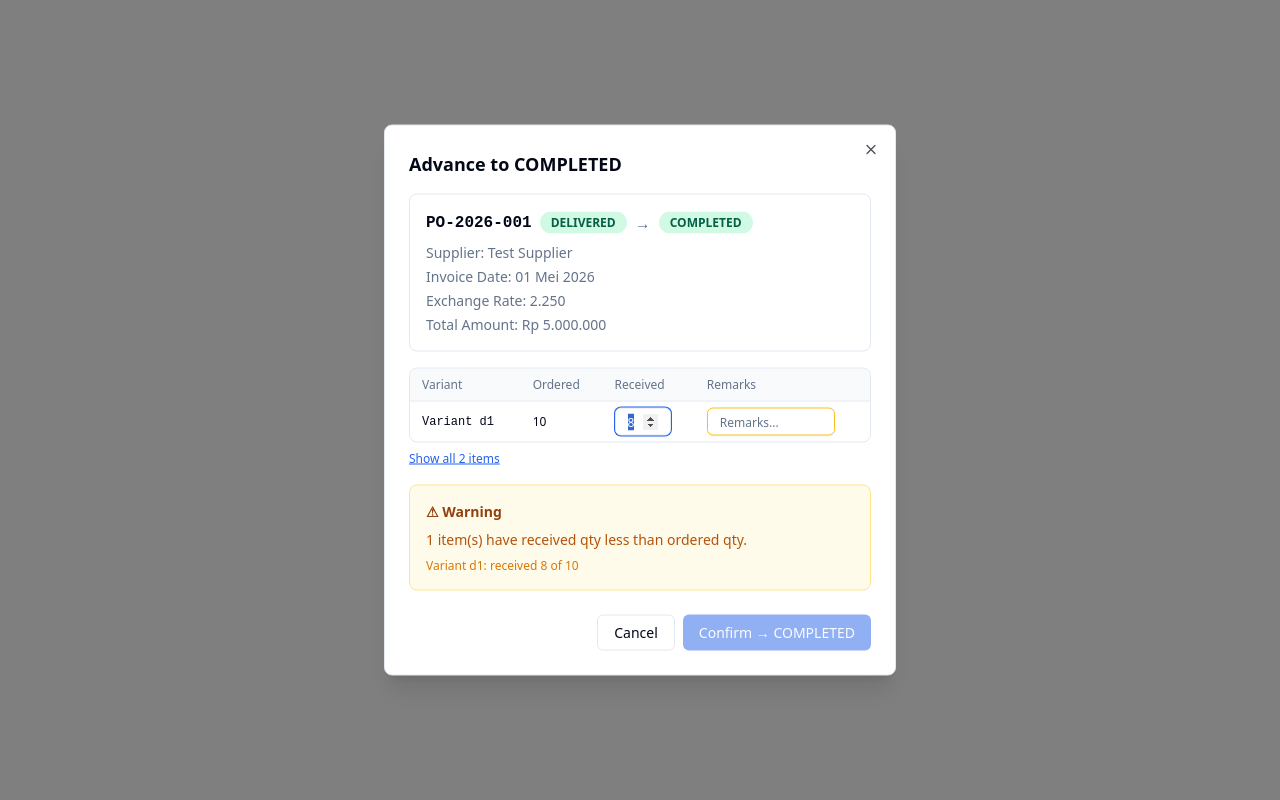
Test: COMPLETED transition — editable received qty › defaults to showing only rows where received qty differs from ordered qty, with a Show all control
Expected: the text "Variant d1" is shown, [422,414,494,428]
Expected: the text "Variant d2" is not shown
Click the button "Show all 2 items" at (454, 458), box [409,450,500,466]
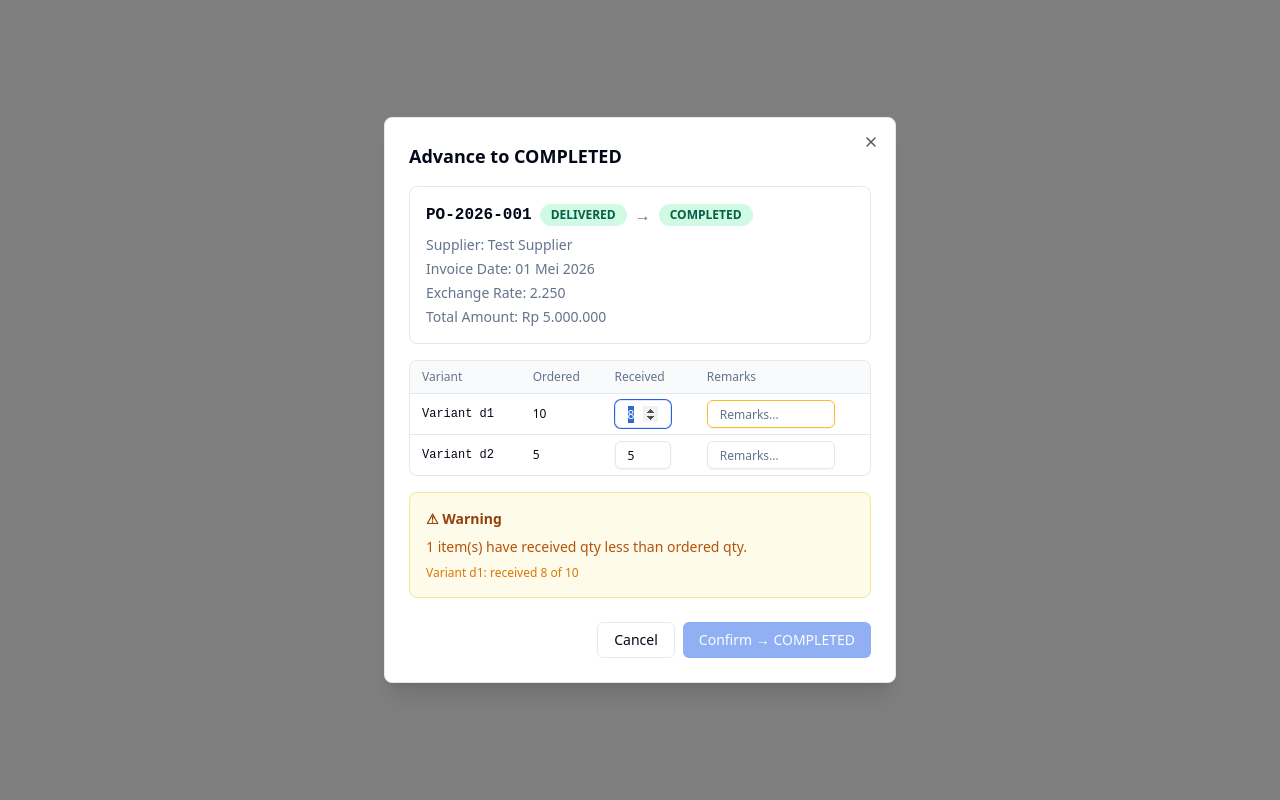
Now the text "Variant d2" is shown, box [422,448,494,462]
